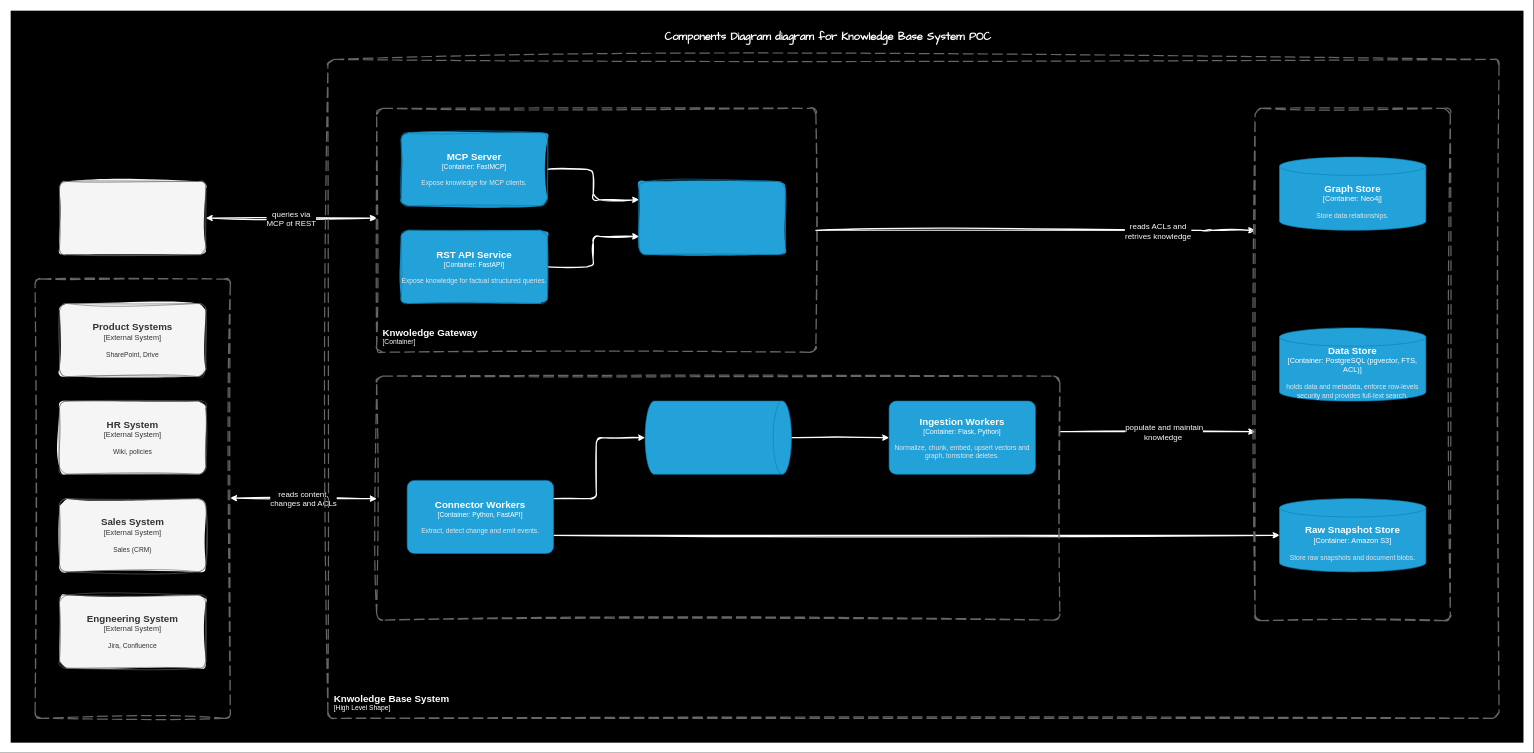
Image size: 1534x753. Some labels were removed from this diagram. Each missing label, with the box of its shape:
ABAC Policy [Container: JSON] Group and user level ACL policies.: (638, 181, 785, 255)
AI Agents [External System] HR Chatbot Assistent Roadmap Agent: (59, 181, 206, 255)
Demo Harness [Container]: (34, 278, 231, 719)
Ingestion Pipeline [Container]: (376, 375, 1060, 620)
Knowledge Store [Container]: (1254, 107, 1451, 621)
SQS Queues & DLQ [Container: SQS] FIFO per source key.: (644, 400, 791, 474)
